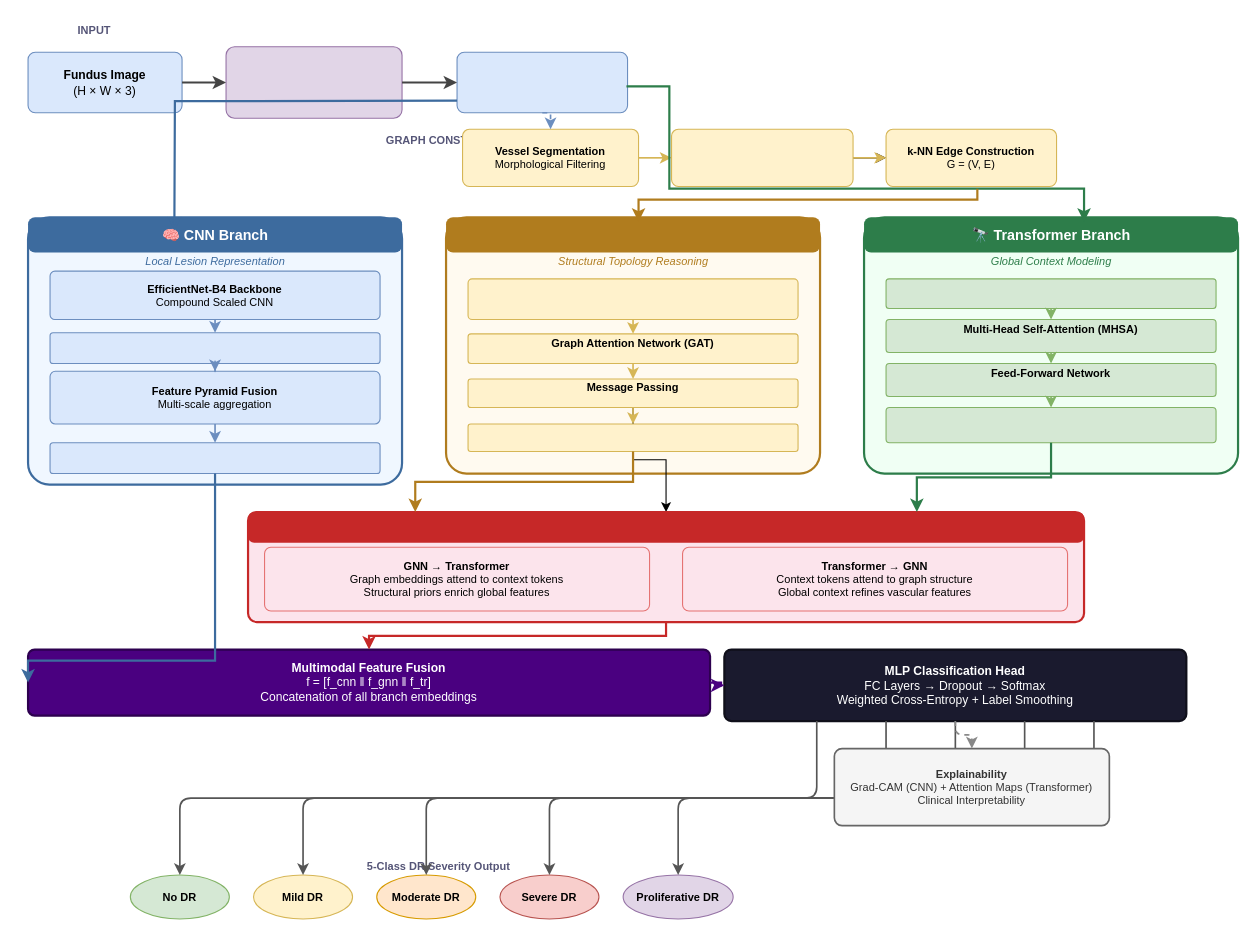
Some shapes in this 1257 by 938 pixel diagram are drawn without their labels. The box of each missing label's shape, as (x1, y1, x2, y2) in pixels:
Class Token Extraction: (885, 406, 1216, 443)
Global Average Pooling (GAP): (49, 442, 380, 474)
Global Graph Pooling: (467, 423, 798, 452)
Junction Detection Bifurcation Points → Nodes: (670, 128, 853, 186)
Multi-Stage Feature Maps: (49, 332, 380, 364)
Patch Embedding: (885, 278, 1216, 309)
Preprocessed Image 512 × 512 × 3: (456, 51, 628, 113)
Preprocessing CLAHE + Resize (512×512) Augmentation: (225, 46, 402, 118)
Vessel Graph Input: (467, 278, 798, 320)
⇄ Bidirectional Cross-Attention Bridge: (248, 512, 1084, 542)
🕸️ GNN Branch: (446, 217, 820, 252)
